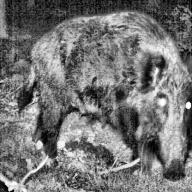boar: (20, 12, 192, 178)
